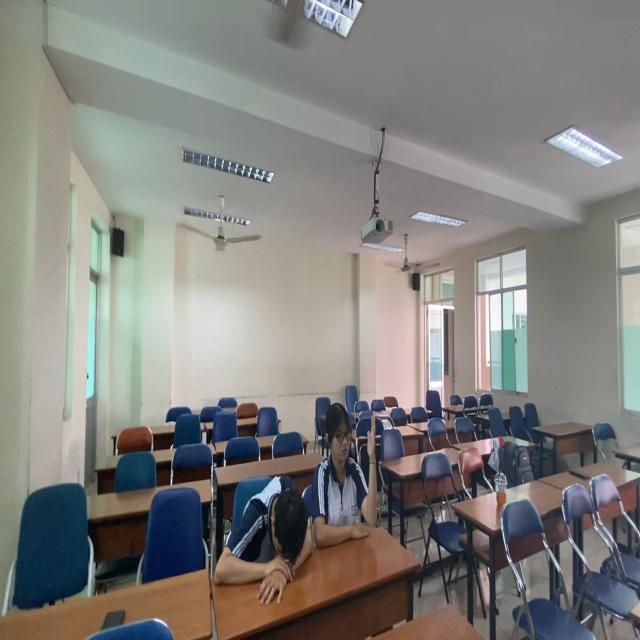raise_hand: (322, 400, 382, 544)
sleep: (211, 466, 317, 613)
